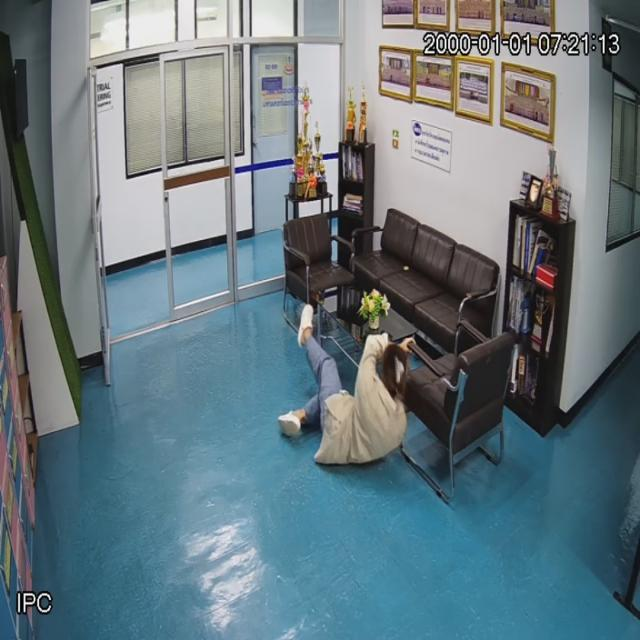fall: (286, 311, 413, 468)
